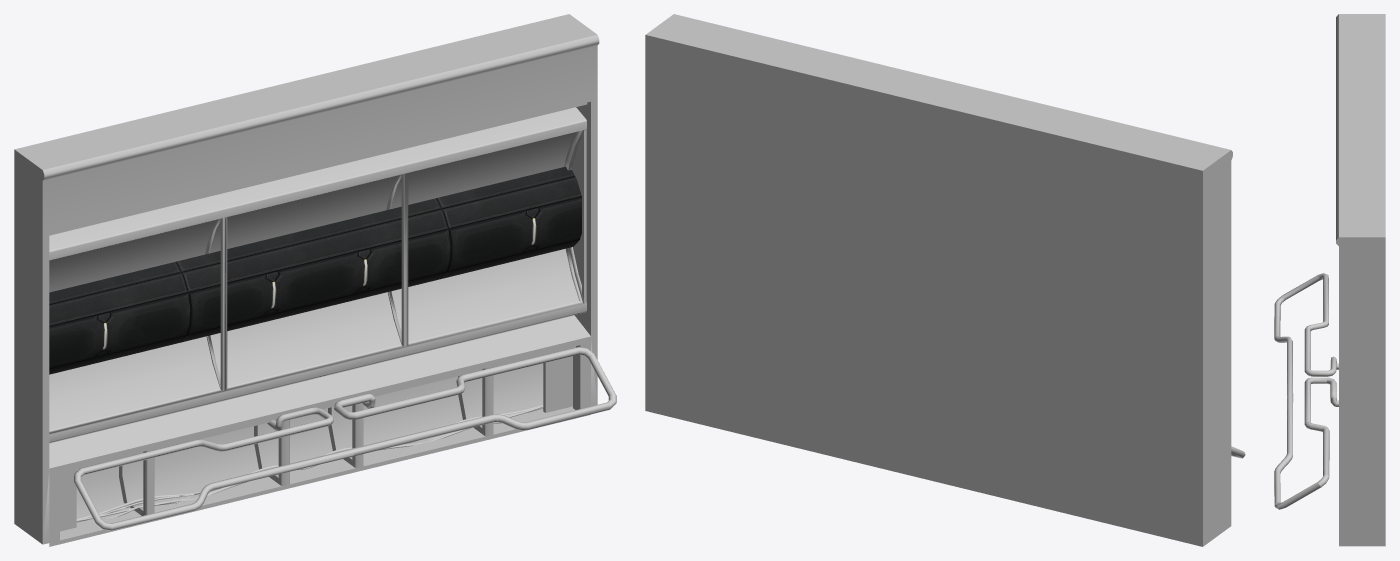
Rendered from Prop_Wall_05_b_V1.FBX.
3 renders of one model, left to right at view 1: azimuth 30°, elevation 25°; view 2: azimuth 150°, elevation 25°; view 3: azimuth 270°, elevation 25°, orthographic. The views are drawn at different scales.
Visible parts, largest first — view 1: Prop_Wall_05_b_V1; view 2: Prop_Wall_05_b_V1; view 3: Prop_Wall_05_b_V1.
Part boxes in pixels (x1,y1,x2,y2): Prop_Wall_05_b_V1: (14, 14, 616, 546); Prop_Wall_05_b_V1: (645, 14, 1245, 546); Prop_Wall_05_b_V1: (1274, 14, 1385, 546).
Size of the model in its own units: 5000 by 1053 by 3258.
